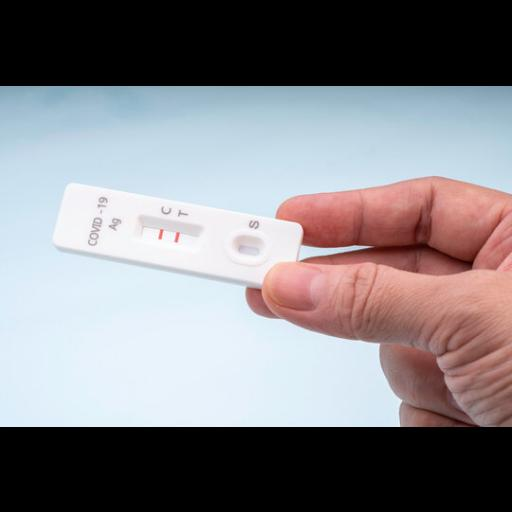Pos: (50, 181, 304, 292)
